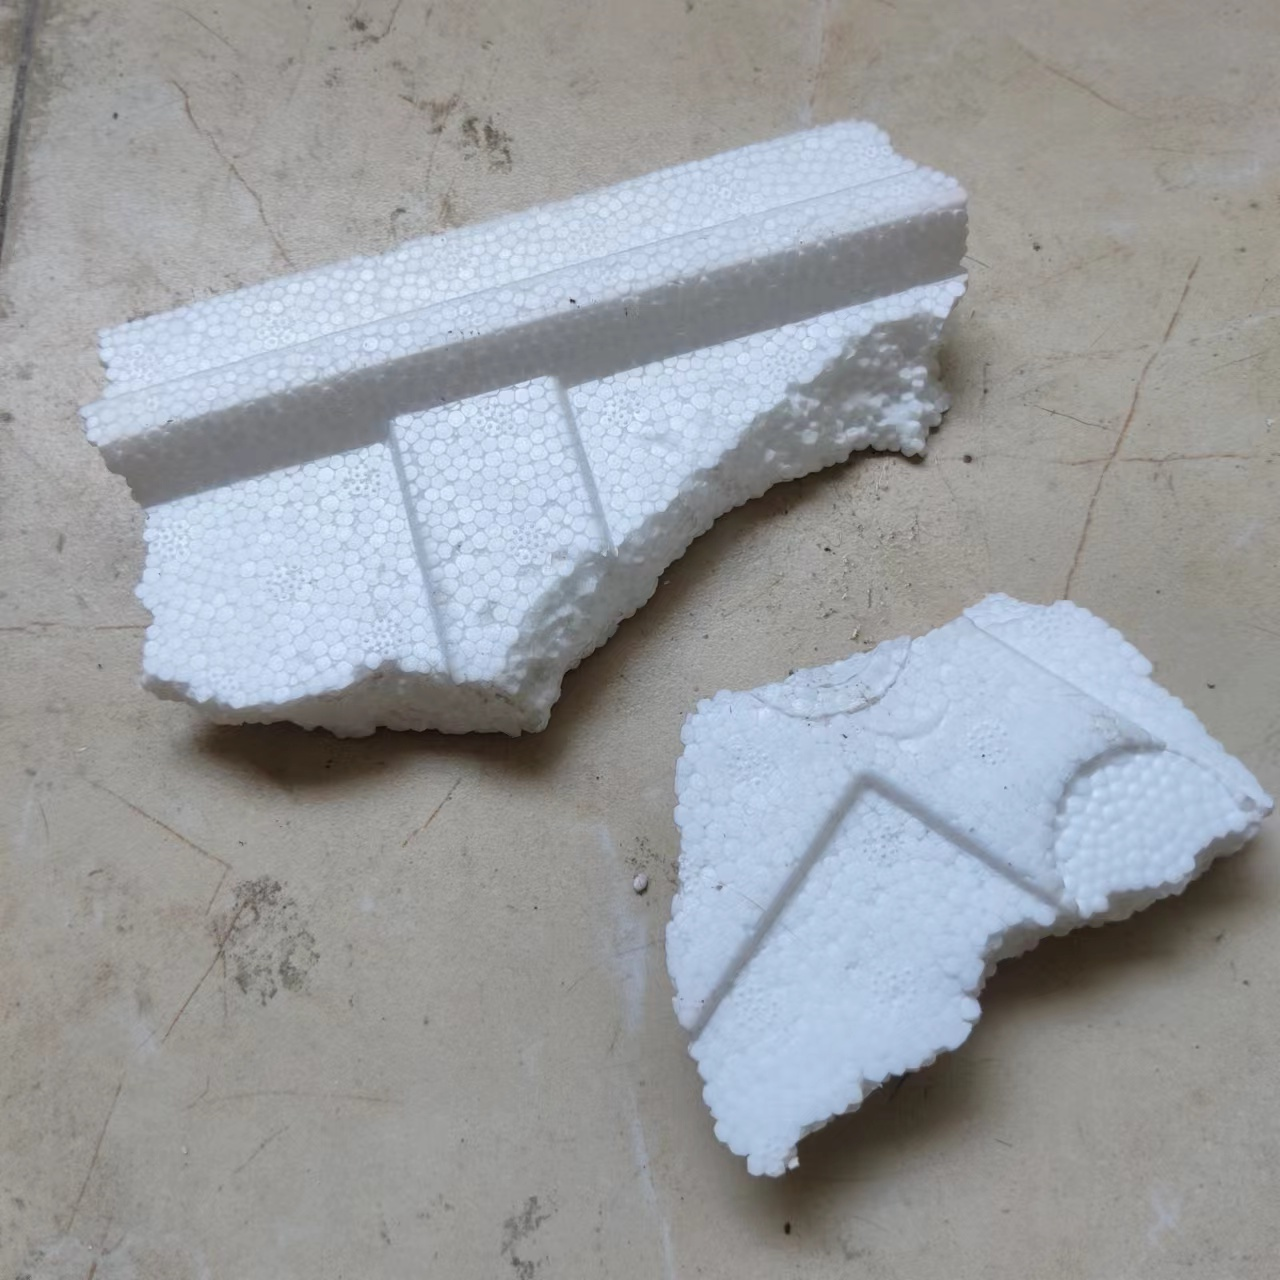5/可回收垃圾/泡沫: (82, 117, 969, 740), (666, 593, 1272, 1179)
